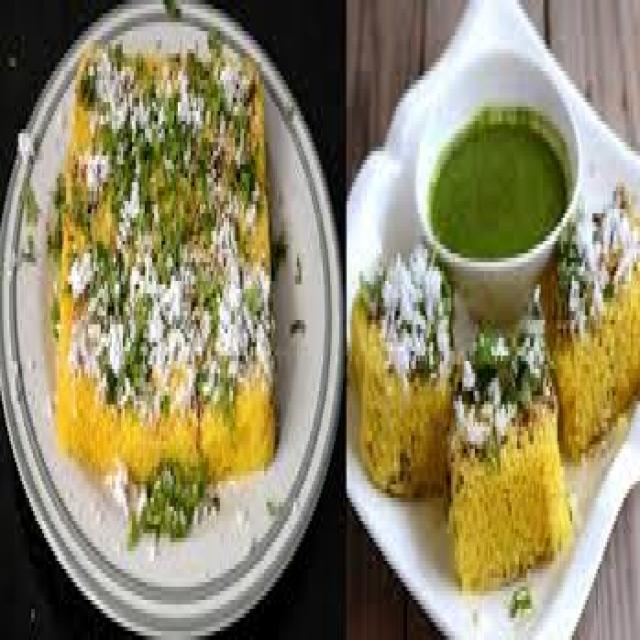DHOKLA: (449, 298, 568, 587), (350, 244, 458, 493), (557, 182, 638, 453)
